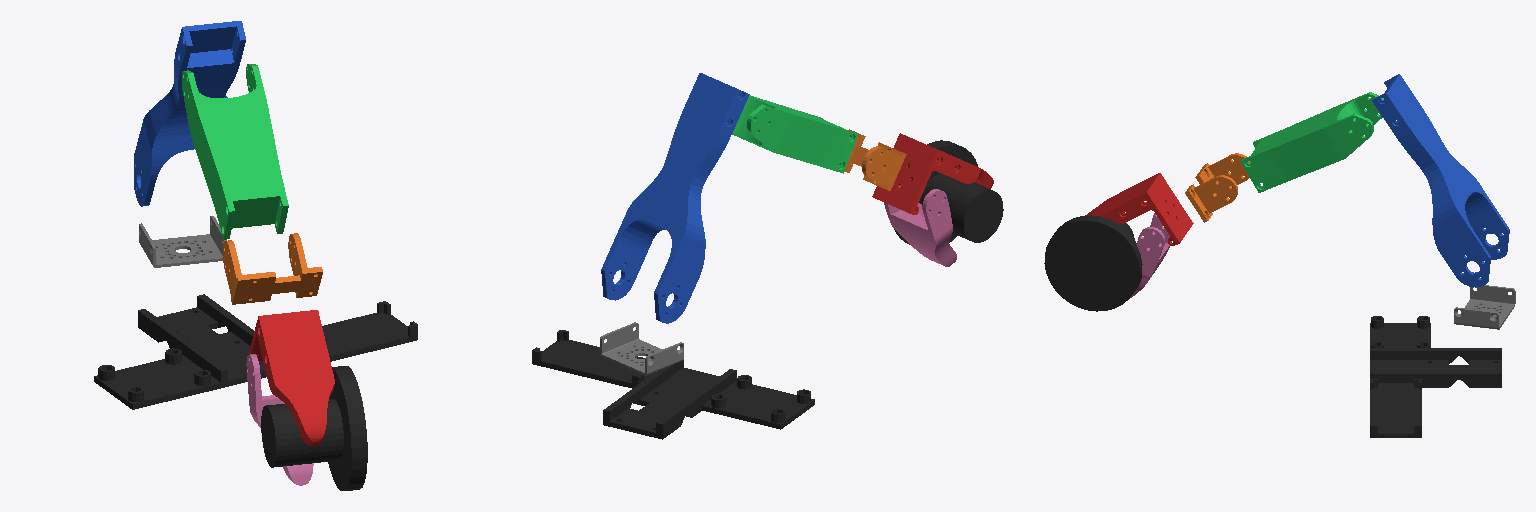
URDF robot description (koch_v11_writing_arm):
<?xml version="1.0"?>
<!-- Koch v1.1 Hybrid Writing Arm - 6-DOF -->
<!-- Based on working 4-DOF pattern, extended to 6 joints -->
<robot name="koch_v11_writing_arm">


  <!-- Base Link -->
  <link name="base_link">
    <visual name="Follower_Base_binary_visual">
      <origin xyz="-0.067000 -0.101000 0.000000" rpy="0.000000 0.000000 0.000000"/>
      <geometry>
	      <!-- <cylinder radius="0.05" length="0.02"/> -->
	      <mesh filename="package://writing_robot_description/meshes/Follower_Base_binary.stl"  scale="0.001 0.001 0.001"/>
      </geometry>
      <material name="black">
        <color rgba="0.2 0.2 0.2 1"/>
      </material>
    </visual>
    <!-- Add XL430 body mesh here too, positioned at motor location -->
    <visual name="XL-430_id1_visual">
      <origin xyz="0.000000 0.017000 0.021000" rpy="0.000000 0.000000 0.000000"/>
      <geometry>
	<mesh filename="package://writing_robot_description/meshes/XL-430_new.stl" scale="0.001 0.001 0.001"/>
      </geometry>
   </visual>
   <collision name="XL-430_id1_collision">
      <geometry>
	 <cylinder radius="0.05" length="0.02" />
      </geometry>
   </collision>
   <inertial>
      <origin xyz="0.002157 0.002598 0.014585" rpy="0 0 0"/>
      <mass value="0.089861"/>
      <inertia ixx="0.000069611" ixy="0.000000000" ixz="0.000000000"
		           iyy="0.000068626" iyz="0.000000000"
		           izz="0.000103037"/>
    </inertial>
  </link>

  <!-- Joint 1: Shoulder Pan (Base Rotation) - XL430 -->
  <joint name="shoulder_pan" type="revolute">
    <parent link="base_link"/>
    <child link="shoulder_link"/>
    <origin xyz="0.001000 0.017000 0.042000" rpy="0.000000 0.000000 0.000000"/>
    <axis xyz="0.000000 0.000000 1.000000"/>
    <limit lower="2.044" upper="0.540" effort="2.0" velocity="3.14"/>
  </joint>

  <link name="shoulder_link">
    <visual name="fr12_s102_visual">
      <origin xyz="0.000000 0.000000 0.017000" rpy="3.141593 0.000000 1.570796"/>
      <geometry>
	      <!-- <cylinder radius="0.025" length="0.04"/> -->
	  <mesh filename="package://writing_robot_description/meshes/fr12_s102.stl" scale="0.001 0.001 0.001"/>
      </geometry>
      <material name="grey">
        <color rgba="0.5 0.5 0.5 1"/>
      </material>
    </visual>
    <!-- Add XL430 body mesh #2 -->
    <visual name="XL-430_new_visual">
      <origin xyz="0.000000 0.000000 0.038000" rpy="1.570796 0.000000 0.000000"/>
      <geometry>
	<mesh filename="package://writing_robot_description/meshes/XL-430_new.stl" scale="0.001 0.001 0.001"/>
      </geometry>
   </visual>
   <inertial>
     <origin xyz="-0.000000 0.000000 0.037821" rpy="0 0 0"/>
     <mass value="0.061576"/>
     <inertia ixx="0.000013539" ixy="0.000000000" ixz="0.000000000"
	                  iyy="0.000013856" iyz="0.000000000"
	                  izz="0.000006444"/>
   </inertial>
   <collision name="fr12_s102_collision">
      <origin xyz="-0.000000 0.000000 0.030750" rpy="0.000000 0.000000 0.000000" />
      <geometry>
        <box size="0.047000 0.038000 0.021500" />
      </geometry>
   </collision>
   <collision name="XL-430_new_collision">
      <origin xyz="0.000000 0.000000 0.038000" rpy="0.000000 0.000000 0.000000" />
      <geometry>
         <cylinder radius="0.019000" length="0.046000" />
      </geometry>
   </collision>
  </link>

  <!-- Joint 2: Shoulder Lift (Vertical) - XL430 -->
  <joint name="shoulder_lift" type="revolute">
    <parent link="shoulder_link"/>
    <child link="upper_arm_link"/>
    <origin xyz="-0.001000 0.000000 0.038000" rpy="3.14159  1.570796 0.000000"/>
    <axis xyz="0.000000 -1.000000 0.000000"/>
    <limit lower="2.8857" upper="2.2000" effort="2.0" velocity="3.14"/>
  </joint>

  <link name="upper_arm_link">
    <visual name="Follower_Shoulder_To_Elbow_binary_visual">
       <origin xyz="-0.012000 0.022000 0.117000" rpy="3.141593 -0.000000 -1.570796"/>
      <geometry>
	<!-- <cylinder radius="0.015" length="0.20"/> -->
	<mesh filename="package://writing_robot_description/meshes/Follower_Shoulder_To_Elbow_binary.stl"  scale="0.001 0.001 0.001"/>
      </geometry>
      <material name="blue">
        <color rgba="0.2 0.4 0.8 1"/>
      </material>
    </visual>
    <visual name="XL330-ID-3_visual">
      <origin xyz="0.109000 0.008000 -0.014000" rpy="-1.570796 0.000000 0.000000"/>
      <geometry>
	<mesh filename="package://writing_robot_description/meshes/XL,XC-330.stl" scale="0.001 0.001 0.001"/>
      </geometry>
   </visual>
   <inertial>
      <origin xyz="0.050128 -0.023836 0.130136" rpy="0 0 0"/>
      <mass value="0.071602"/>
      <inertia ixx="0.001104557" ixy="0.000000000" ixz="0.000000000"
		             iyy="0.001192723" iyz="0.000000000"
		             izz="0.000265545"/>
   </inertial>
   <collision name="Follower_Shoulder_To_Elbow_binary_collision">
      <origin xyz="0.010050 -0.044044 0.233604" rpy="0.000000 0.000000 0.000000" />
      <geometry>
         <box size="0.054000 0.141912 0.036000" />
      </geometry>
    </collision>
    <collision name="XL330-ID-3_collision">
      <origin xyz="0.109000 0.008000 -0.014000" rpy="0.000000 0.000000 0.000000" />
      <geometry>
         <cylinder radius="0.017000" length="0.028000" />
      </geometry>
    </collision>
  </link>

  <!-- Joint 3: Elbow Flex - XL330 -->
  <joint name="elbow_flex" type="revolute">
    <parent link="upper_arm_link"/>
    <child link="forearm_link"/>
    <origin xyz="0.109000 0.000000 -0.013000" rpy="3.14159 0.000000 0.000000"/>
    <axis xyz="0.000000 -1.000000 0.000000"/>
    <limit lower="0.726" upper="2.250" effort="1.5" velocity="3.14"/>
  </joint>

  <link name="forearm_link">
    <visual name="XL330-ID4_visual">
      <origin xyz="0.101000 -0.008000 0.002000" rpy="1.570796 1.570796 0.000000"/>
      <geometry>
	<mesh filename="package://writing_robot_description/meshes/XL,XC-330.stl" scale="0.001 0.001 0.001"/>
      </geometry>
      <material name="green">
        <color rgba="0.2 0.8 0.4 1"/>
      </material>
    </visual>
    <visual name="Follower_Elbow_To_Wrist_Extension_binary_visual">
      <origin xyz="0.082000 -0.018000 -0.009000" rpy="0.000000 0.000000 1.570796"/>
      <geometry>
        <mesh filename="package://writing_robot_description/meshes/Follower_Elbow_To_Wrist_Extension_binary.stl" scale="0.001 0.001 0.001"/>
      </geometry>
      <material name="green">
        <color rgba="0.2 0.8 0.4 1"/>
      </material>
    </visual>
    <inertial>
      <origin xyz="0.100026 0.011432 0.002300" rpy="0 0 0"/>
      <mass value="0.088473"/>
      <inertia ixx="0.000044543" ixy="0.000000000" ixz="0.000000000"
		             iyy="0.000011283" iyz="0.000000000"
		             izz="0.000046876"/>
    </inertial>
    <collision name="XL330-ID4_collision">
      <origin xyz="0.101000 -0.008000 0.002000" rpy="0.000000 0.000000 0.000000" />
      <geometry>
        <cylinder radius="0.017000" length="0.028000" />
      </geometry>
    </collision>
    <collision name="Follower_Elbow_To_Wrist_Extension_binary_collision">
      <origin xyz="0.099550 0.027043 0.002550" rpy="0.000000 0.000000 0.000000" />
      <geometry>
         <box size="0.045000 0.100086 0.033000" />
      </geometry>
    </collision>
  </link>

  <!-- Joint 4: Wrist Flex - XL330 -->
  <joint name="wrist_flex" type="revolute">
    <parent link="forearm_link"/>
    <child link="wrist_link"/>
    <origin xyz="0.101000 -0.001000 0.003000" rpy="0.000000 0.000000 0.000000"/>
    <axis xyz="0.000000 1.000000 0.000000"/>
    <limit lower="2.70" upper="0.297" effort="1.5" velocity="3.14"/>
  </joint>

  <link name="wrist_link">
    <visual name="Follower_Elbow_To_Wrist_binary_visual">
      <origin xyz="0.222000 0.019000 0.064000" rpy="-3.141593 0.000000 -1.570796"/>
      <geometry>
	<mesh filename="package://writing_robot_description/meshes/Follower_Elbow_To_Wrist_binary.stl" scale="0.001 0.001 0.001"/>
      </geometry>
      <material name="orange">
        <color rgba="0.9 0.5 0.2 1"/>
      </material>
    </visual>
    <visual name="XL330-ID5_visual">
      <origin xyz="0.000000 0.003000 0.038000" rpy="0.000000 0.000000 0.000000"/>
      <geometry>
        <mesh filename="package://writing_robot_description/meshes/XL,XC-330.stl" scale="0.001 0.001 0.001"/>
      </geometry>
      <material name="orange">
        <color rgba="0.9 0.5 0.2 1"/>
      </material>
    </visual>
    <inertial>
      <origin xyz="0.039162 0.041751 0.050877" rpy="0 0 0"/>
      <mass value="0.034634"/>
      <inertia ixx="0.000300750" ixy="0.000000000" ixz="0.000000000"
		             iyy="0.000307520" iyz="0.000000000"
		             izz="0.000544612"/>
    </inertial>
    <collision name="Follower_Elbow_To_Wrist_binary_collision">
      <origin xyz="0.243000 0.241223 0.122867" rpy="0.000000 1.570800 0.000000" />
      <geometry>
        <cylinder radius="0.017487" length="0.052000" />
      </geometry>
    </collision>
    <collision name="XL330-ID5_collision">
      <origin xyz="0.000000 0.003000 0.038000" rpy="0.000000 0.000000 0.000000" />
      <geometry>
        <cylinder radius="0.017000" length="0.028000" />
      </geometry>
    </collision>
  </link>

  <!-- Joint 5: Wrist Roll - XL330 -->
  <joint name="wrist_roll" type="revolute">
    <parent link="wrist_link"/>
    <child link="hand_link"/>
    <origin xyz="-0.001000 0.001000 0.043000" rpy="0.000000 0.000000 -1.570796"/>
    <axis xyz="0.000000 0.000000 1.000000"/>
    <limit lower="1.900" upper="-1.448" effort="1.0" velocity="3.14"/>
  </joint>

  <link name="hand_link">
    <visual name="Follower_Gripper_Static_Part_binary">
      <origin xyz="-0.221000 -0.017000 0.071000" rpy="1.570796 0.000000 0.000000"/>
      <geometry>
         <mesh filename="package://writing_robot_description/meshes/Follower_Gripper_Static_Part_binary.stl" scale="0.001 0.001 0.001"/>
      </geometry>
      <material name="red">
        <color rgba="0.8 0.2 0.2 1"/>
      </material>
    </visual>
    <visual name="XL330-ID6_visual">
      <origin xyz="0.008000 -0.007000 0.015000" rpy="-1.570796 -1.570796 -1.570796"/>
      <geometry>
        <mesh filename="package://writing_robot_description/meshes/XL,XC-330.stl" scale="0.001 0.001 0.001"/>
      </geometry>
      <material name="red">
        <color rgba="0.8 0.2 0.2 1"/>
      </material>
    </visual>

    <inertial>
      <origin xyz="0.005155 -0.026264 0.024550" rpy="0 0 0"/>
      <mass value="0.045639"/>
      <inertia ixx="0.000047474" ixy="0.000000000" ixz="0.000000000"
		             iyy="0.000013317" iyz="0.000000000"
		             izz="0.000039915"/>
    </inertial>
    <collision name="Follower_Gripper_Static_Part_binary">
      <origin xyz="0.000065 -0.051484 0.052125" rpy="1.570800 0.000000 0.000000" />
      <geometry>
        <cylinder radius="0.021813" length="0.078868" />
      </geometry>
    </collision>
    <collision name="XL330-ID6_collision">
      <origin xyz="0.008000 -0.007000 0.015000" rpy="0.000000 0.000000 0.000000" />
      <geometry>
         <cylinder radius="0.017000" length="0.028000" />
      </geometry>
    </collision>
  </link>

  <!-- Joint 6: Pen Holder (Gripper) - XL330 -->
  <joint name="pen_holder" type="revolute">
    <parent link="hand_link"/>
    <child link="pen_link"/>
    <origin xyz="0.000000 -0.007000 0.016000" rpy="0.785398 0.000000 0.000000"/>
    <axis xyz="-1.000000 0.000000 0.000000"/>
    <limit lower="1.60" upper="0.19" effort="0.5" velocity="1.57"/>
  </joint>

  <link name="pen_link">
    <visual name="Follower_Gripper_Moving_Part_binary_visual">
      <origin xyz="-0.221000 -0.045000 0.034000" rpy="0.000000 -0.785399 -1.570797"/>
      <geometry>
        <mesh filename="package://writing_robot_description/meshes/Follower_Gripper_Moving_Part_binary.stl" scale="0.001 0.001 0.001"/>
      </geometry>
    </visual>
    <inertial>
      <origin xyz="-0.251709 0.176376 0.042951" rpy="0 0 0"/>
      <mass value="0.015925"/>
      <inertia ixx="0.000001879" ixy="0.000000000" ixz="0.000000000"
		             iyy="0.000003038" iyz="0.000000000"
		             izz="0.000004269"/>
    </inertial>
    <collision name="Follower_Gripper_Moving_Part_binary_collision">
      <origin xyz="-0.253009 0.176065 0.044500" rpy="0.000000 0.000000 0.000000" />
      <geometry>
        <box size="0.073917 0.045500 0.031000" />
      </geometry>
     </collision>
  </link>


  <!-- ============================================================ -->
  <!--  CUP ASSEMBLY                                                -->
  <!--  Semantic chain: pen_link → handle → plate → ball           -->
  <!--                                                              -->
  <!--  The thin handle cylinder connects to pen_link.             -->
  <!--  The wide plate is the child of the handle (far end).       -->
  <!--  The ball rests at the center of the plate surface.         -->
  <!-- ============================================================ -->
 
  <!-- Fixed joint: pen_link → cup handle (thin cylinder) -->
  <joint name="cup_handle_joint" type="fixed">
    <parent link="pen_link"/>
    <child  link="cup_handle_link"/>
    <!-- Tune xyz/rpy to align handle base with gripper face -->
    <origin xyz="0.00 0.00 0.04" rpy="0 1.5708 0"/>
  </joint>
 
  <link name="cup_handle_link">
    <visual>
      <origin xyz="0 0 0" rpy="0 0 0"/>
      <geometry>
        <!-- Thin handle cylinder: ~30mm diameter, ~45mm long -->
       <cylinder radius="0.015" length="0.035"/>
       </geometry>
      <material name="dark_grey">
        <color rgba="0.2 0.2 0.2 1.0"/>
      </material>
    </visual>
    <collision>
      <origin xyz="0 0 0" rpy="0 0 0"/>
     <geometry>
        <cylinder radius="0.015" length="0.045"/>
      </geometry>
    </collision>
    <inertial>
      <mass value="0.030"/>
      <inertia ixx="0.000008" iyy="0.000008" izz="0.000003" ixy="0" ixz="0" iyz="0"/>
    </inertial>
  </link>
 
  <!-- Fixed joint: cup handle → wide plate -->
  <!-- Plate origin is at the far end of the handle -->
  <joint name="cup_plate_joint" type="fixed">
    <parent link="cup_handle_link"/>
    <child  link="cup_plate_link"/>
    <!-- Move half handle length + half plate thickness along handle axis -->
    <origin xyz="0.0 0.0 0.02" rpy="0 0 0"/>
  </joint>
  
  <link name="cup_plate_link">
    <visual>
      <origin xyz="0 0 0" rpy="0 0 0"/>
      <geometry>
        <!-- Wide flat plate: ~120mm diameter, ~8mm thick -->
        <cylinder radius="0.030" length="0.008"/>
      </geometry>
      <material name="dark_grey"/>
    </visual>
    <collision>
      <origin xyz="0 0 0" rpy="0 0 0"/>
      <geometry>
        <cylinder radius="0.060" length="0.008"/>
     </geometry>
    </collision>
    <inertial>
      <mass value="0.050"/>
      <inertia ixx="0.000045" iyy="0.000045" izz="0.000090" ixy="0" ixz="0" iyz="0"/>
    </inertial>
  </link>
 
  <!-- ROS2 Control - Following working 4-DOF pattern -->
  <!-- ros2_control for Dynamixel Hardware -->
  <ros2_control name="koch_v11_system" type="system">
	    
    <!-- Dynamixel Hardware Interface -->
    <hardware>
        <plugin>dynamixel_hardware_interface/DynamixelHardware</plugin>
	<param name="usb_port">/dev/ttyOpenRB</param>
	<param name="port_name">/dev/ttyOpenRB</param>
	<param name="baud_rate">1000000</param>
        <param name="number_of_joints">6</param>
	<param name="number_of_transmissions">6</param> 
	<param name="transmission_to_joint_matrix">1,0,0,0,0,0,0,1,0,0,0,0,0,0,1,0,0,0,0,0,0,1,0,0,0,0,0,0,1,0,0,0,0,0,0,1</param>
	<param name="joint_to_transmission_matrix">1,0,0,0,0,0,0,1,0,0,0,0,0,0,1,0,0,0,0,0,0,1,0,0,0,0,0,0,1,0,0,0,0,0,0,1</param>
	<!--
	Temp
        <param name="number_of_joints">5</param>
	<param name="number_of_transmissions">5</param> 
	<param name="transmission_to_joint_matrix">1,0,0,0,0,0,1,0,0,0,0,0,-1,0,0,0,0,0,1,0,0,0,0,0,1</param>
	<param name="joint_to_transmission_matrix">1,0,0,0,0,0,1,0,0,0,0,0,-1,0,0,0,0,0,1,0,0,0,0,0,1</param>
	-->
	<param name="dynamixel_model_folder">/param/dxl_model</param>
	<!-- <param name="disable_torque_at_init">true</param> -->
	<param name="protocol_version">2.0</param>
    </hardware>

  <!-- ===== JOINTS: ros2_control interfaces ===== -->
  
  <!-- Joint 1: shoulder_pan (base rotation) -->
  <joint name="shoulder_pan">
    <command_interface name="position">
      <param name="min">2.044</param>  <!-- far left -->
      <param name="max">0.540</param>  <!-- far right -->
    </command_interface>
    <state_interface name="position"/>
    <state_interface name="velocity"/>
    <state_interface name="effort"/>
  </joint>
  
  <!-- Joint 2: shoulder_lift -->
  <joint name="shoulder_lift">
    <command_interface name="position">
      <param name="min">2.8857</param>  <!-- highest physical position -->
      <param name="max">2.2000</param>   <!-- lowest physical position -->
    </command_interface>
    <state_interface name="position"/>
    <state_interface name="velocity"/>
    <state_interface name="effort"/>
  </joint>
  
  <!-- Joint 3: elbow_flex -->
  <joint name="elbow_flex">
    <command_interface name="position">
      <param name="min">0.726</param>   <!-- highest physical position -->
      <param name="max">2.250</param>  <!-- lowest physical position -->
    </command_interface>
    <state_interface name="position"/>
    <state_interface name="velocity"/>
    <state_interface name="effort"/>
  </joint>
  
  <!-- Joint 4: wrist_flex -->
  <joint name="wrist_flex">
    <command_interface name="position">
      <param name="min">2.70</param>  <!-- highest physical position -->
      <param name="max">0.297</param>  <!-- lowest physical position -->
    </command_interface>
    <state_interface name="position"/>
    <state_interface name="velocity"/>
    <state_interface name="effort"/>
  </joint>
  
  <!-- Joint 5: wrist_roll -->
  <joint name="wrist_roll">
    <command_interface name="position">
      <param name="min">1.900</param>  <!-- jacks on same side -->
      <param name="max">-1.475</param>   <!-- jacks on opposite side (180° rotation) -->
    </command_interface>
    <state_interface name="position"/>
    <state_interface name="velocity"/>
    <state_interface name="effort"/>
  </joint>
  
  <!-- Joint 6: pen_holder (gripper)  -->
  <joint name="pen_holder">
    <command_interface name="position">
      <param name="min">1.60</param>   <!-- completely closed  -->
      <param name="max">0.19</param>   <!-- completely open  -->
    </command_interface>
    <state_interface name="position"/>
    <state_interface name="velocity"/>
    <state_interface name="effort"/>
  </joint>
  
  <!-- ===== GPIO: Actual Dynamixel Motors ===== -->
  
  <!-- Motor 1: XL430-W250 (base) -->
  <gpio name="dxl1">
    <param name="type">dxl</param>
    <param name="ID">1</param>
    <command_interface name="Goal Position"/>
    <state_interface name="Present Position"/>
    <state_interface name="Present Velocity"/>
    <state_interface name="Present Load"/>
    <state_interface name="Present Temperature"/>
    <state_interface name="Present Input Voltage"/>
  </gpio>
  
  <!-- Motor 2: XL430-W250 (shoulder_lift) -->
  <gpio name="dxl2">
    <param name="type">dxl</param>
    <param name="ID">2</param>
    <command_interface name="Goal Position"/>
    <state_interface name="Present Position"/>
    <state_interface name="Present Velocity"/>
    <state_interface name="Present Load"/>
    <state_interface name="Present Temperature"/>
    <state_interface name="Present Input Voltage"/>
  </gpio>
  
  <!-- Motor 3: XL330-M288 (elbow_flex) -->
  <gpio name="dxl3">
    <param name="type">dxl</param>
    <param name="ID">3</param>
    <command_interface name="Goal Position"/>
    <state_interface name="Present Position"/>
    <state_interface name="Present Velocity"/>
    <state_interface name="Present Current"/>
    <state_interface name="Present Temperature"/>
    <state_interface name="Present Input Voltage"/>
  </gpio>
  
  <!-- Motor 4: XL330-M288 (wrist_flex) -->
  <gpio name="dxl4">
    <param name="type">dxl</param>
    <param name="ID">4</param>
    <command_interface name="Goal Position"/>
    <state_interface name="Present Position"/>
    <state_interface name="Present Velocity"/>
    <state_interface name="Present Current"/>
    <state_interface name="Present Temperature"/>
    <state_interface name="Present Input Voltage"/>
  </gpio>
  
  <!-- Motor 5: XL330-M288 (wrist_roll) -->
  <gpio name="dxl5">
    <param name="type">dxl</param>
    <param name="ID">5</param>
    <command_interface name="Goal Position"/>
    <state_interface name="Present Position"/>
    <state_interface name="Present Velocity"/>
    <state_interface name="Present Current"/>
    <state_interface name="Present Temperature"/>
    <state_interface name="Present Input Voltage"/>
  </gpio>
  
  <!-- Motor 6: XL330-M288 (pen_holder/gripper) -->
  <gpio name="dxl6">
    <param name="type">dxl</param>
    <param name="ID">6</param>
    <command_interface name="Goal Position"/>
    <state_interface name="Present Position"/>
    <state_interface name="Present Velocity"/>
    <state_interface name="Present Current"/>
    <state_interface name="Present Temperature"/>
    <state_interface name="Present Input Voltage"/>
  </gpio>
  
</ros2_control>
</robot>

--- Render facts (derived) ---
3 views of the same robot in one strip: view 1: azimuth 30°, elevation 25°; view 2: azimuth 150°, elevation 25°; view 3: azimuth 270°, elevation 25° (orthographic).
Robot: koch_v11_writing_arm — 9 links, 8 joints (6 revolute, 2 fixed); root link base_link; default pose: joints at zero except 5 at the middle of their limits (shoulder_pan = 1.29, shoulder_lift = 2.54, elbow_flex = 1.49, wrist_flex = 1.5, pen_holder = 0.895).
Visible links, largest first — view 1: base_link, forearm_link, upper_arm_link, hand_link, cup_handle_link, wrist_link, cup_plate_link, shoulder_link, pen_link; view 2: upper_arm_link, base_link, forearm_link, hand_link, pen_link, cup_handle_link, shoulder_link, wrist_link, cup_plate_link; view 3: upper_arm_link, base_link, cup_plate_link, forearm_link, hand_link, wrist_link, shoulder_link, pen_link.
Link boxes in pixels (box(x1,y1,x2,y2)): base_link: box(94, 294, 417, 409); forearm_link: box(182, 64, 288, 239); upper_arm_link: box(134, 21, 245, 206); hand_link: box(249, 310, 334, 446); cup_handle_link: box(261, 399, 343, 467); wrist_link: box(223, 233, 322, 304); cup_plate_link: box(328, 366, 367, 490); shoulder_link: box(139, 216, 226, 267); pen_link: box(246, 354, 313, 485); upper_arm_link: box(601, 73, 749, 323); base_link: box(532, 330, 814, 439); forearm_link: box(732, 95, 857, 173); hand_link: box(872, 133, 993, 214); pen_link: box(884, 185, 956, 266); cup_handle_link: box(921, 173, 1003, 242); shoulder_link: box(600, 322, 683, 375); wrist_link: box(844, 129, 906, 190); cup_plate_link: box(894, 140, 977, 244); upper_arm_link: box(1372, 74, 1509, 286); base_link: box(1370, 316, 1501, 437); cup_plate_link: box(1044, 215, 1142, 311); forearm_link: box(1241, 92, 1383, 192); hand_link: box(1085, 173, 1193, 245); wrist_link: box(1185, 153, 1250, 222); shoulder_link: box(1454, 285, 1515, 329); pen_link: box(1130, 213, 1171, 297).
Bounding box of the posed robot: 0.1774 × 0.2843 × 0.1867 m (x, y, z).
7 mesh visuals loaded from 9 distinct referenced files (7 binary STL); not drawn: 6 (reference not matched to a file when rendering).
